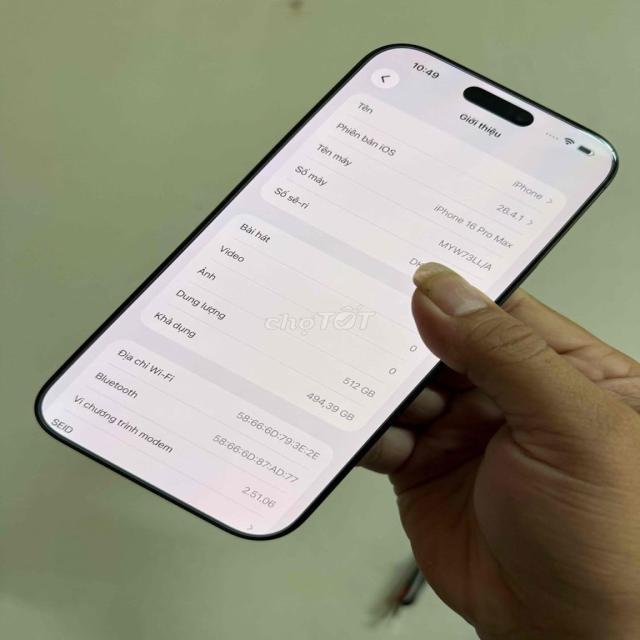gen_16: (36, 45, 617, 539)
